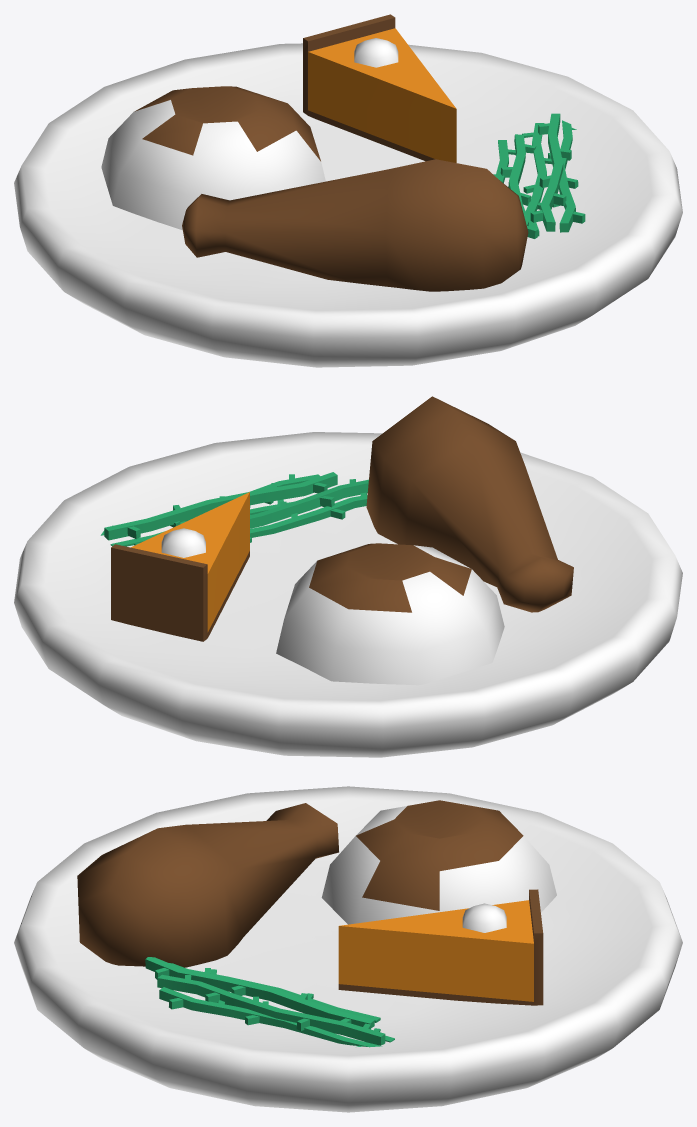
File: MM_DinnerPlate.fbx
3 renders of one model, top to bottom at view 1: azimuth 30°, elevation 25°; view 2: azimuth 150°, elevation 25°; view 3: azimuth 270°, elevation 25°, orthographic.
Parts seen in each view (by area): view 1: MM_DinnerPlate; view 2: MM_DinnerPlate; view 3: MM_DinnerPlate.
Part boxes in pixels (box(x1,y1,x2,y2)): MM_DinnerPlate: box(14, 14, 682, 367); MM_DinnerPlate: box(14, 396, 682, 757); MM_DinnerPlate: box(14, 786, 682, 1112).
Bounding box in the file's own units: 132 × 35.8 × 132.
